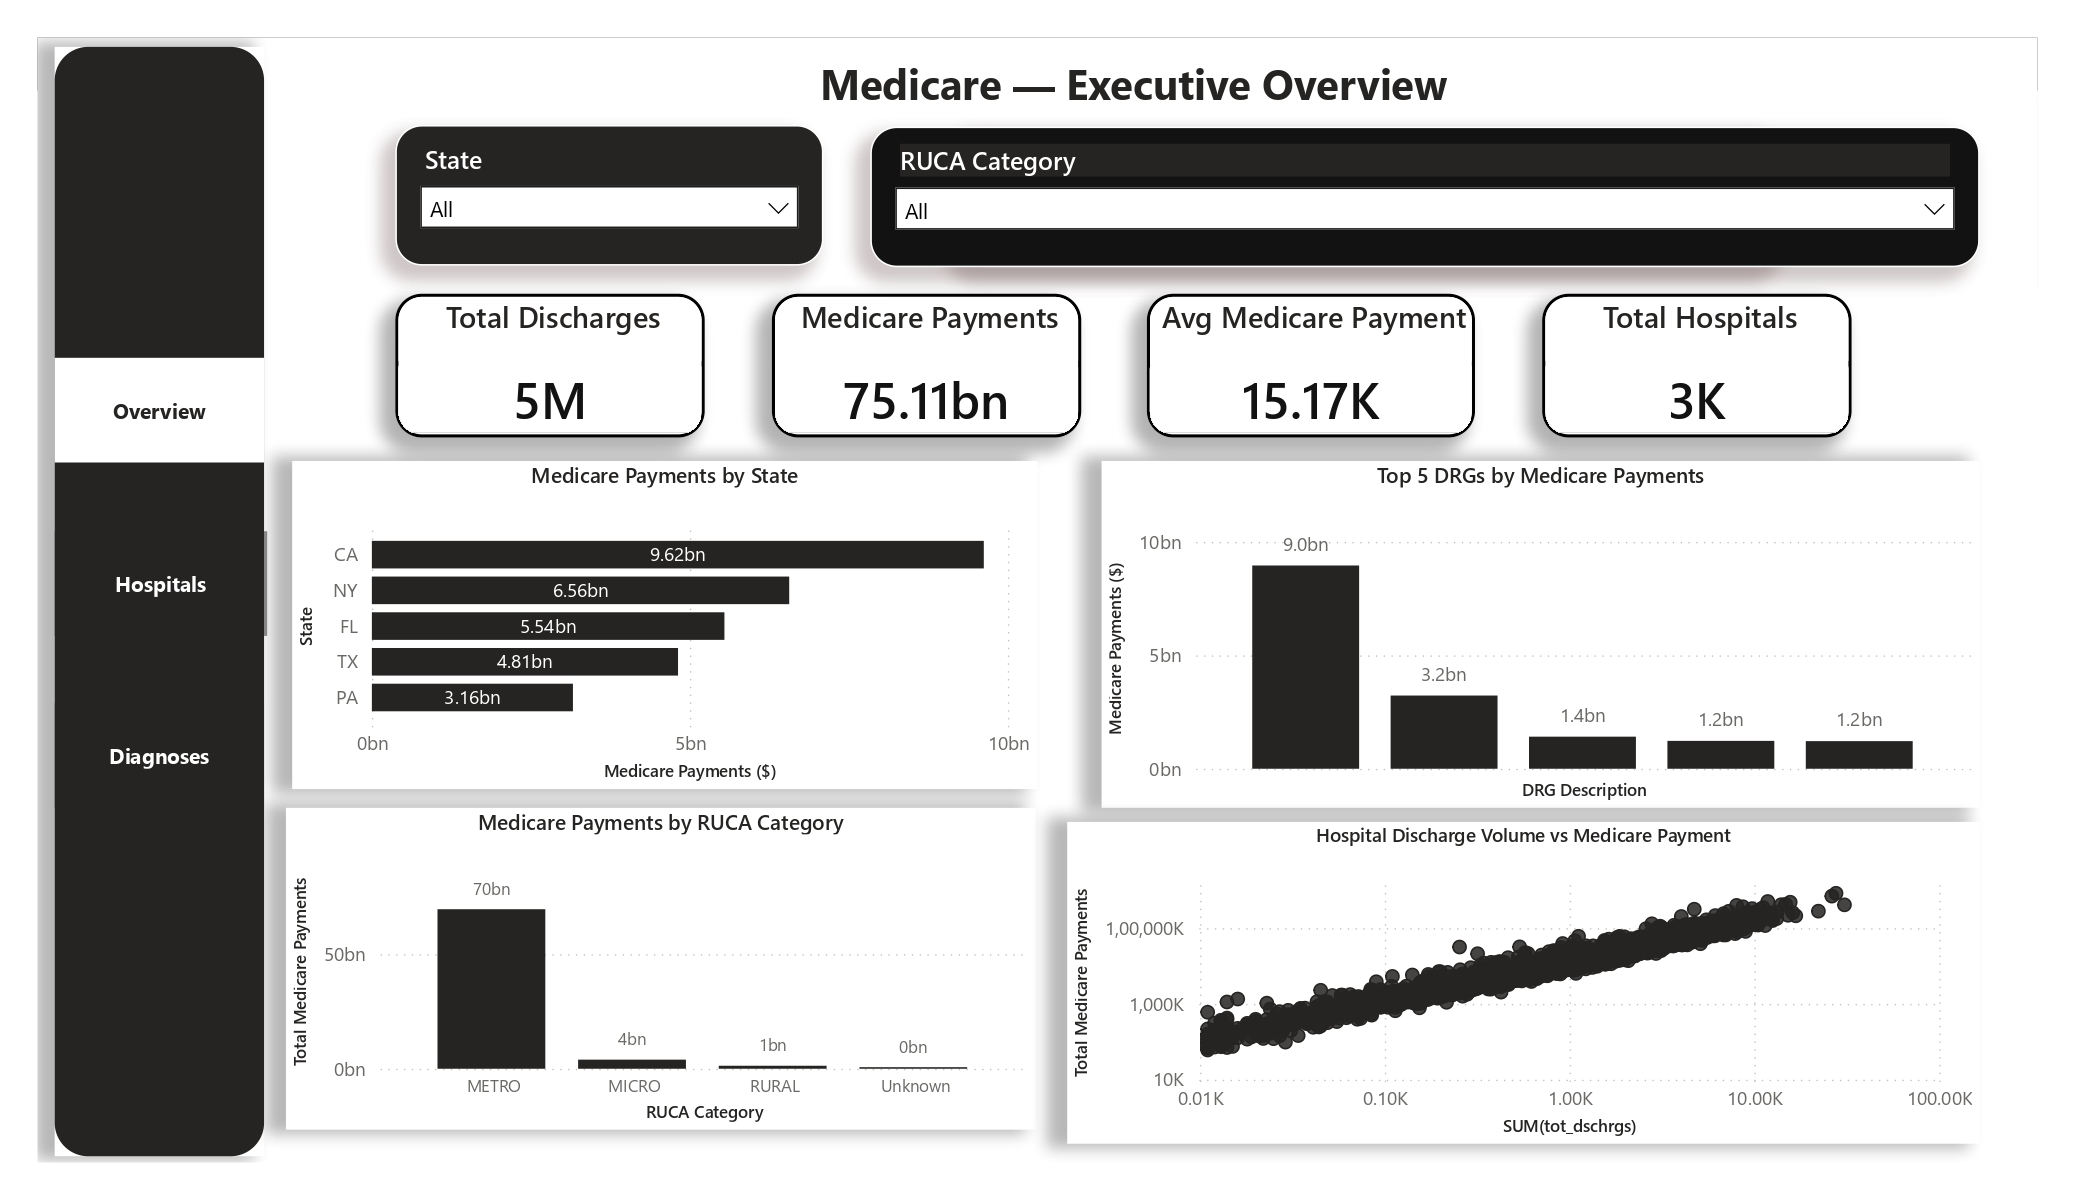

The dashboard page shown, as its layout file describes it:
{"tool":"powerbi","page":{"name":"Medicare Overview","canvas":[1280,720],"ordinal":0},"visuals":[{"type":"shape","box":[11.4,5.7,134.3,710],"z":0,"group":"g1"},{"type":"textbox","box":[244.3,5.7,914.3,50],"z":1000},{"type":"cardVisual","title":"Total Discharges","fields":{"Data":["public medicare_impatient.Total Discharges"]},"box":[228.6,164.3,198.6,91.4],"z":2000},{"type":"cardVisual","title":"Total Hospitals ","fields":{"Data":["public medicare_impatient.Total Hospitals"]},"box":[962.9,164.3,198.6,91.4],"z":3000},{"type":"cardVisual","title":"Avg Medicare Payment","fields":{"Data":["public medicare_impatient.Average Medicare Payment"]},"box":[710.5,164.3,210,91.4],"z":4000},{"type":"cardVisual","title":"Medicare Payments","fields":{"Data":["public medicare_impatient.Total Medicare Payments"]},"box":[469.5,164.3,198.6,91.4],"z":5000},{"type":"clusteredBarChart","title":"Medicare Payments by State","fields":{"Category":["public medicare_impatient.rndrng_prvdr_state_abrvtn"],"Y":["public medicare_impatient.Total Medicare Payments"]},"box":[162.9,271.4,477.1,210],"z":6000},{"type":"clusteredColumnChart","title":"Medicare Payments by RUCA Category","fields":{"Category":["public medicare_impatient.rndrng_prvdr_ruca_desc (groups)"],"Y":["public medicare_impatient.Total Medicare Payments"]},"box":[158.9,492.9,480.2,205.8],"z":7000},{"type":"clusteredColumnChart","title":"Top 5 DRGs by Medicare Payments","fields":{"Category":["public medicare_impatient.drg_desc"],"Y":["public medicare_impatient.Total Medicare Payments"]},"box":[681.4,271.4,561.4,221.4],"z":8000},{"type":"scatterChart","title":"Hospital Discharge Volume vs Medicare Payment","fields":{"X":["Sum(public medicare_impatient.tot_dschrgs)"],"Category":["public medicare_impatient.rndrng_prvdr_org_name"],"Y":["public medicare_impatient.Total Medicare Payments"]},"box":[659.1,502.3,584.3,205.7],"z":9000},{"type":"slicer","title":"State","fields":{"Values":["public medicare_impatient.rndrng_prvdr_state_abrvtn"]},"box":[228.6,55.7,274.3,90],"z":10000},{"type":"slicer","title":"RUCA Category","fields":{"Values":["public medicare_impatient.rndrng_prvdr_ruca_desc"]},"box":[590,57.1,530,90],"z":11000},{"type":"slicer","title":"RUCA Category","fields":{"Values":["public medicare_impatient.rndrng_prvdr_ruca_desc"]},"box":[532.9,57.1,710,90],"z":12000},{"type":"actionButton","box":[11.4,425.7,134.3,67.1],"z":13000,"group":"g1"},{"type":"actionButton","box":[11.4,204.3,134.3,67.1],"z":14000,"group":"g1"},{"type":"actionButton","box":[11.4,315.7,135.7,67.1],"z":15000,"group":"g1"},{"type":"group","id":"g1","title":"Group 1","box":[11.4,5.7,135.7,710],"z":15001}]}

Visuals, with their boxes on the page's 1280x720 design canvas (x1, y1, x2, y2). These are canvas units, not pixel positions in the 2075x1200 screenshot, which may show the page scaled, cropped or inside an application window:
shape: (11,6,146,716)
textbox: (244,6,1159,56)
"Total Discharges" cardVisual: (229,164,427,256)
"Total Hospitals " cardVisual: (963,164,1162,256)
"Avg Medicare Payment" cardVisual: (710,164,920,256)
"Medicare Payments" cardVisual: (470,164,668,256)
"Medicare Payments by State" clusteredBarChart: (163,271,640,481)
"Medicare Payments by RUCA Category" clusteredColumnChart: (159,493,639,699)
"Top 5 DRGs by Medicare Payments" clusteredColumnChart: (681,271,1243,493)
"Hospital Discharge Volume vs Medicare Payment" scatterChart: (659,502,1243,708)
"State" slicer: (229,56,503,146)
"RUCA Category" slicer: (590,57,1120,147)
"RUCA Category" slicer: (533,57,1243,147)
actionButton: (11,426,146,493)
actionButton: (11,204,146,271)
actionButton: (11,316,147,383)
"Group 1" group: (11,6,147,716)
